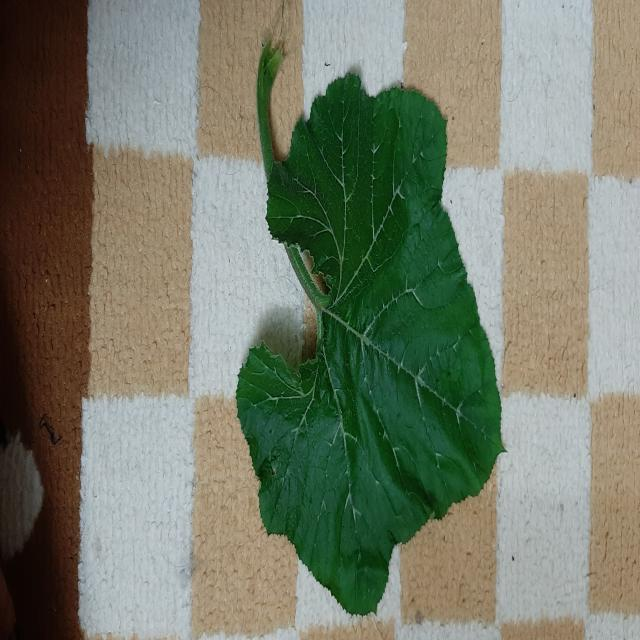pumpkin: (236, 41, 502, 615)
